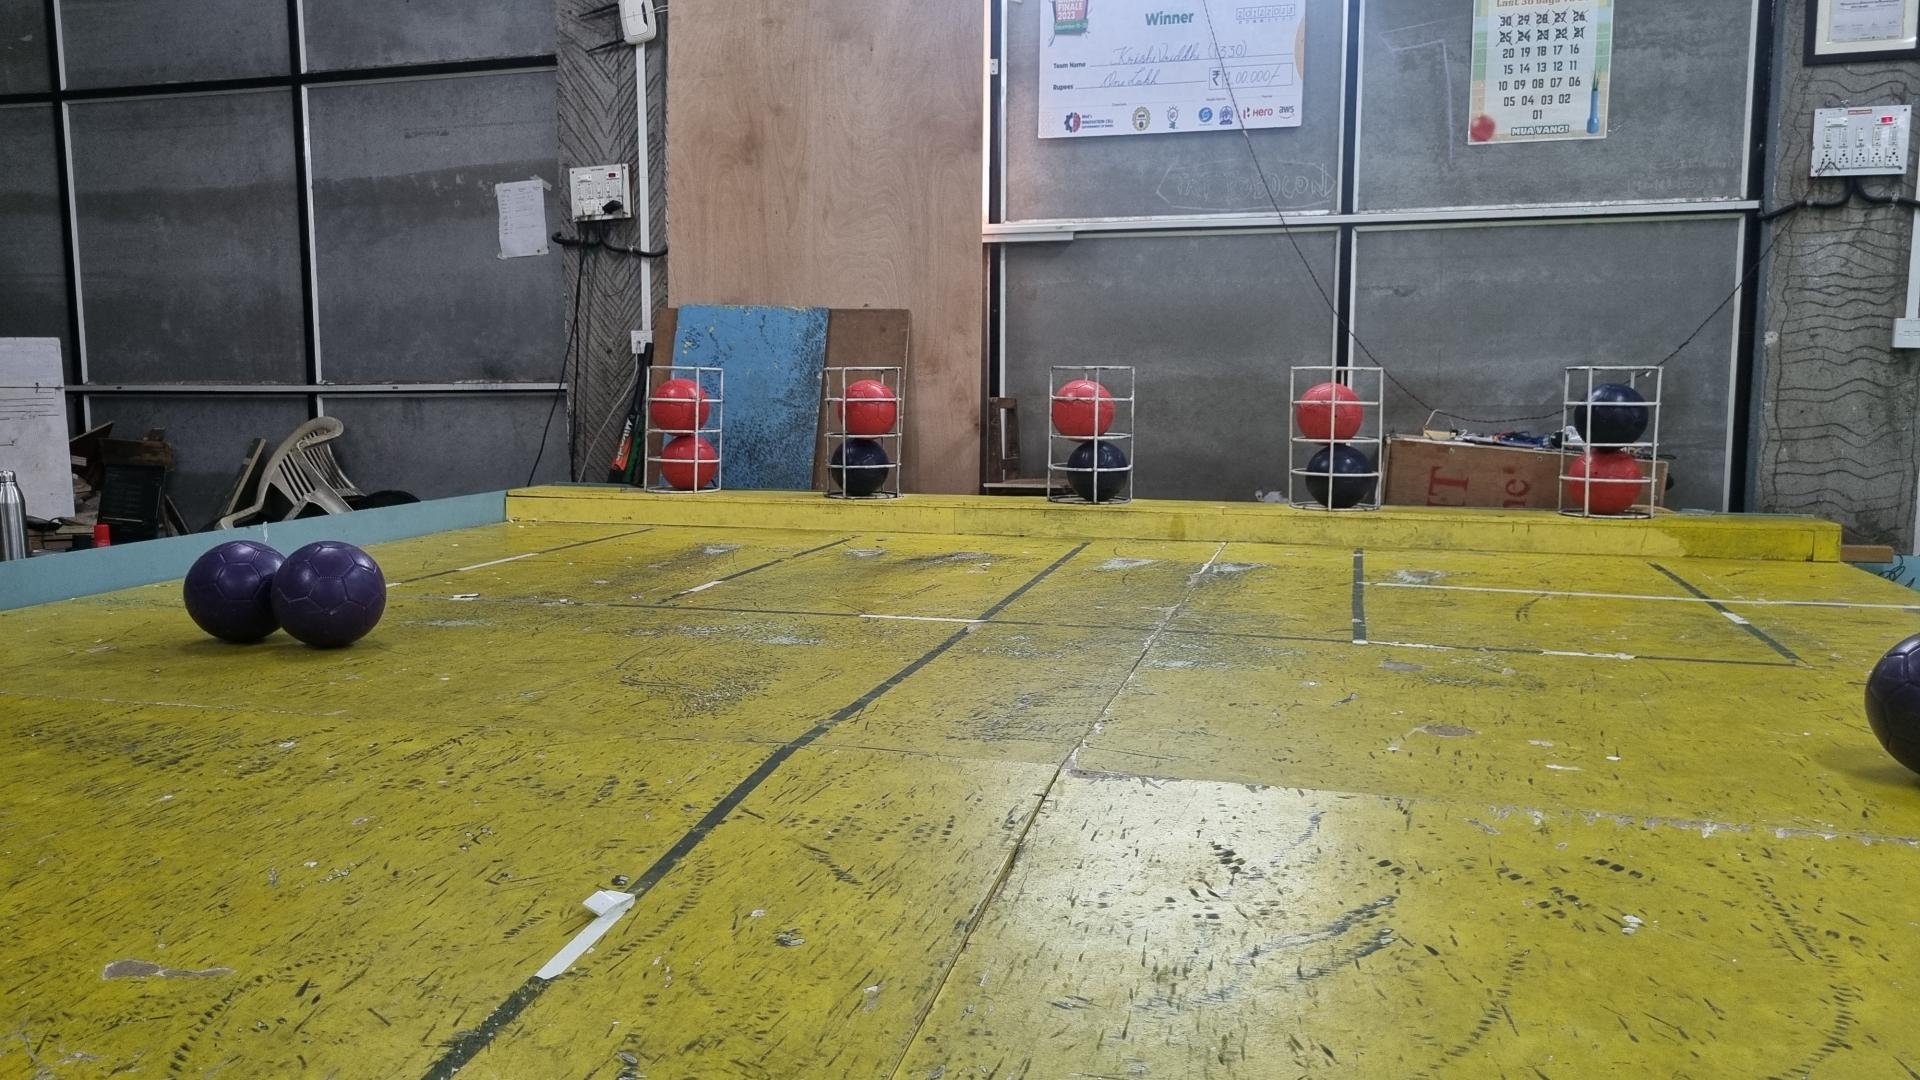dhoka: (1575, 382, 1650, 446), (1305, 446, 1373, 509), (1065, 442, 1129, 502), (828, 438, 889, 498)
laale: (1568, 450, 1643, 513), (1294, 382, 1365, 442), (1050, 378, 1114, 438), (649, 378, 708, 435), (659, 435, 720, 491), (844, 378, 897, 435)
